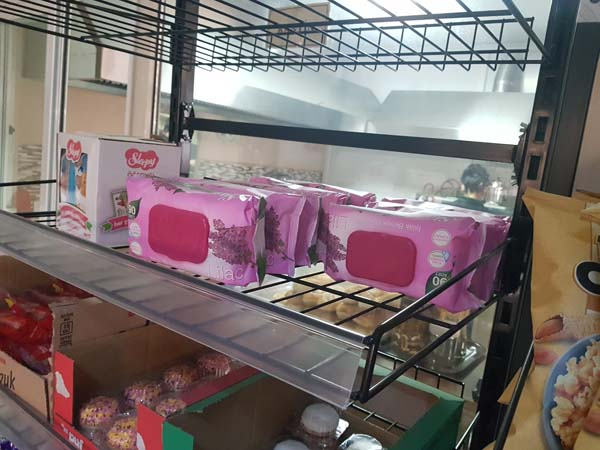etipuf: (294, 399, 340, 436)
sleepyislakmendil: (129, 177, 264, 286), (329, 204, 477, 302)
